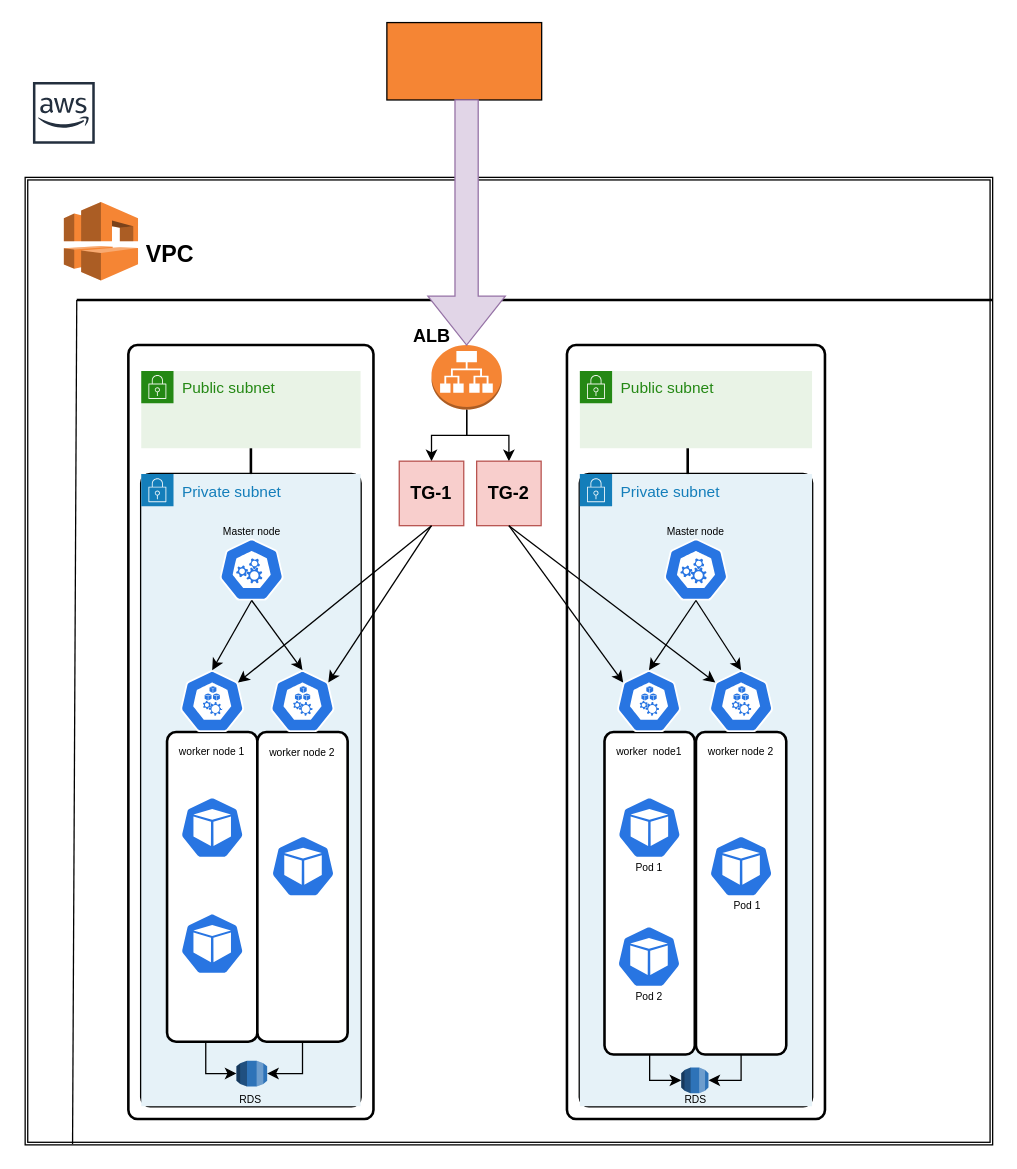
Some shapes in this 1017 by 1169 pixel diagram are drawn without their labels. Here are the shapes that lost their labels. From the top down, the centre of each, then its label:
At point (464, 60): "GO Daddy".
At point (63, 112): "AWS Cloud".
